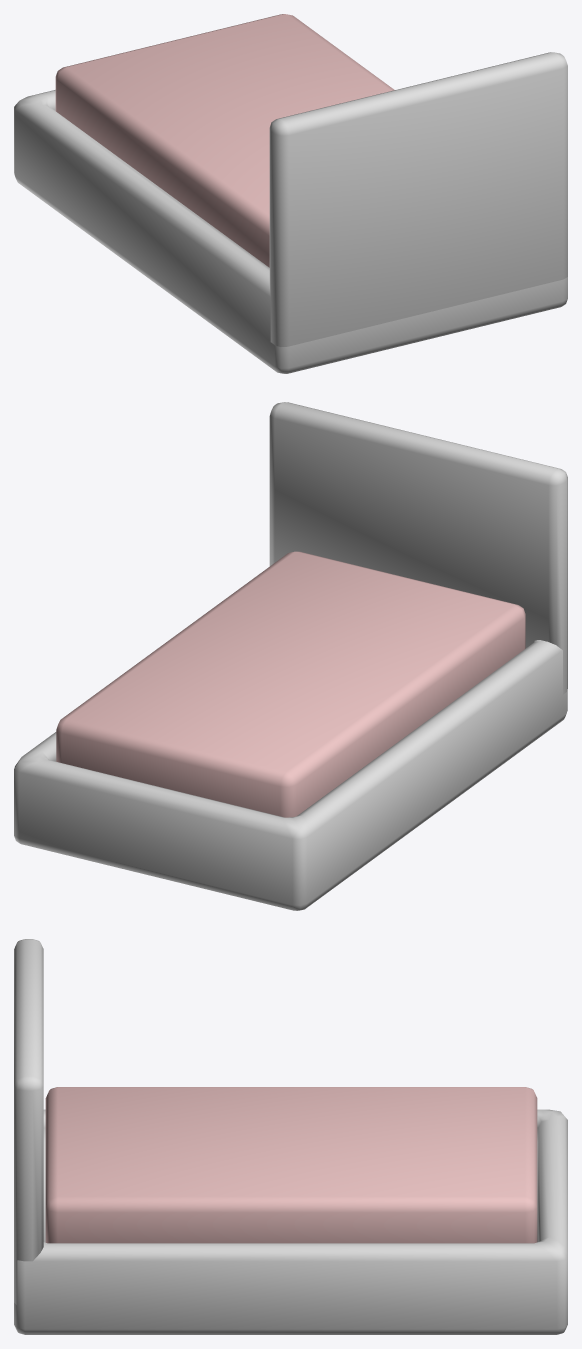
The model's file is vanBed.fbx.
The picture shows the model from 3 angles, top to bottom: view 1: azimuth 30°, elevation 25°; view 2: azimuth 150°, elevation 25°; view 3: azimuth 270°, elevation 25°; orthographic projection. The views are drawn at different scales.
Parts seen in each view (by area): view 1: vanBed; view 2: vanBed; view 3: vanBed.
Part boxes in pixels (<box>): vanBed: <box>14,14,567,373</box>; vanBed: <box>14,402,567,910</box>; vanBed: <box>14,939,567,1334</box>.
Bounding box in the file's own units: 776 × 639 × 1243.
